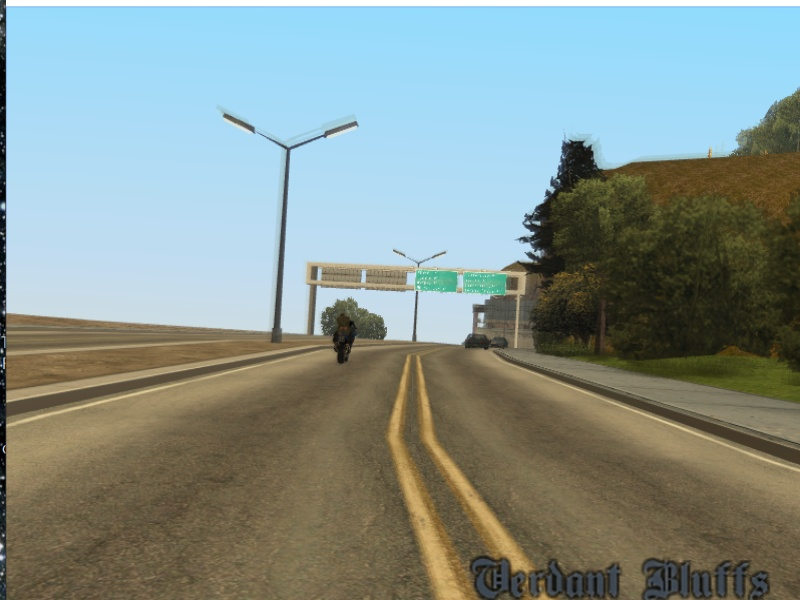pole: (270, 149, 296, 341), (411, 291, 424, 344), (306, 285, 317, 335), (513, 298, 523, 349)
vehicle: (330, 312, 362, 370), (464, 331, 490, 352)
